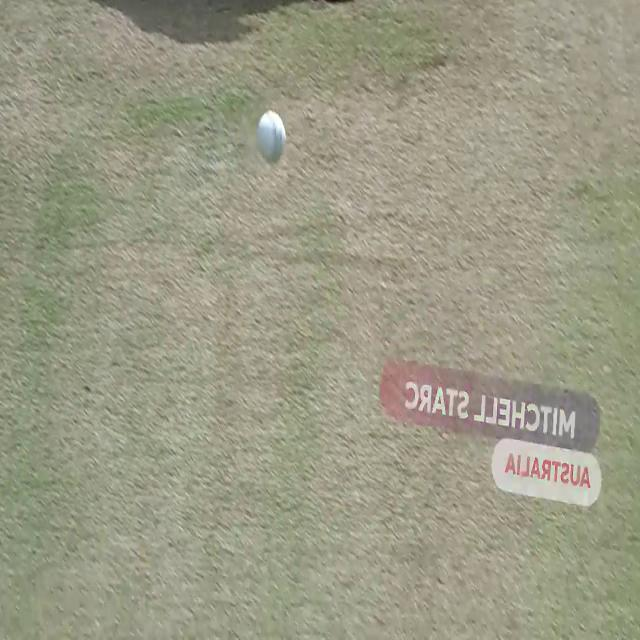ball: (255, 109, 287, 162)
